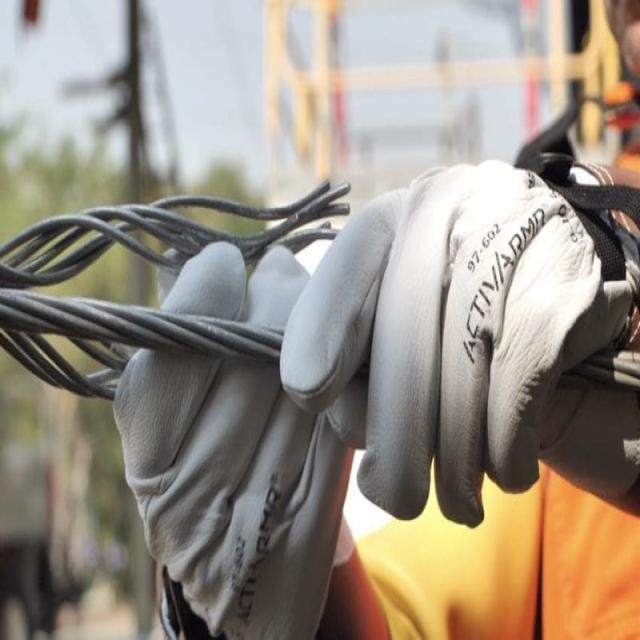gloves: (276, 149, 640, 526), (105, 242, 396, 640)
